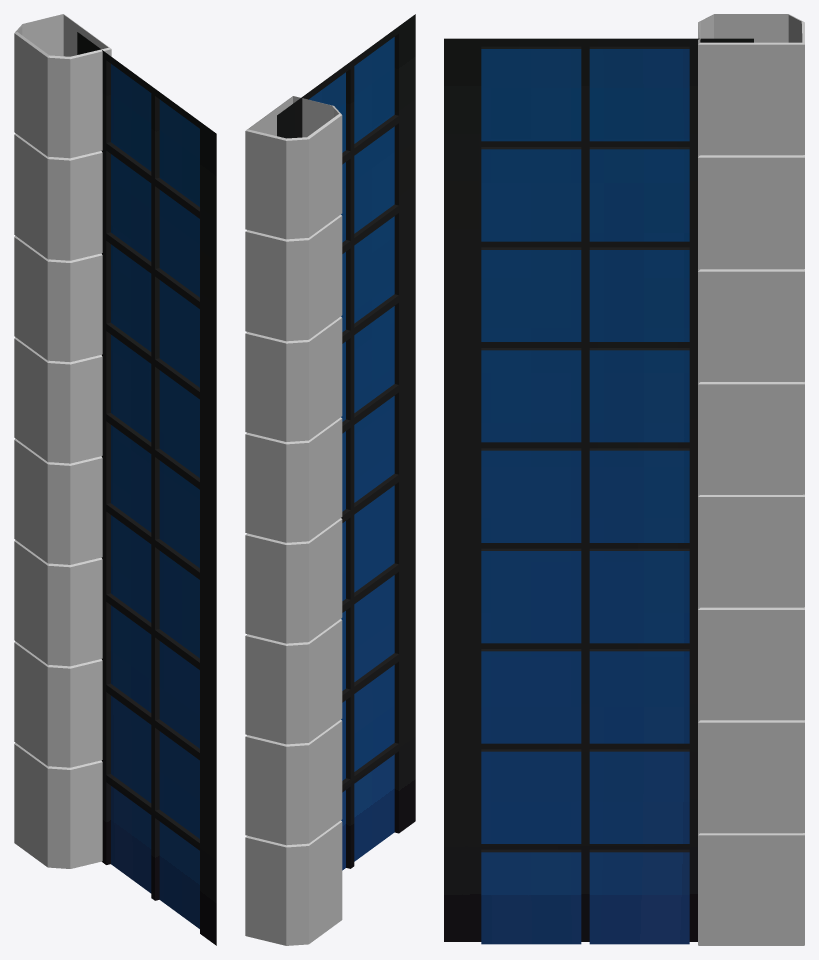
Rendered from CitySkyscraper01.fbx.
3 renders of one model, left to right at view 1: azimuth 30°, elevation 25°; view 2: azimuth 150°, elevation 25°; view 3: azimuth 270°, elevation 25°, orthographic. The views are drawn at different scales.
Visible parts, largest first — view 1: SM_City_Skyscraper_01_Mid_01a.mo; view 2: SM_City_Skyscraper_01_Mid_01a.mo; view 3: SM_City_Skyscraper_01_Mid_01a.mo.
Boxes of the visible parts, x1=… form: SM_City_Skyscraper_01_Mid_01a.mo: x1=14, y1=14, x2=216, y2=945; SM_City_Skyscraper_01_Mid_01a.mo: x1=245, y1=14, x2=415, y2=945; SM_City_Skyscraper_01_Mid_01a.mo: x1=444, y1=14, x2=804, y2=945.
Bounding box in the file's own units: 110 × 1500 × 543.
